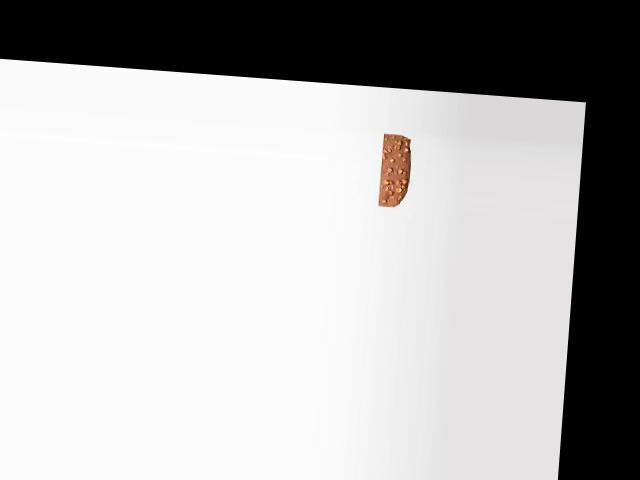chocolate: (375, 133, 418, 208)
